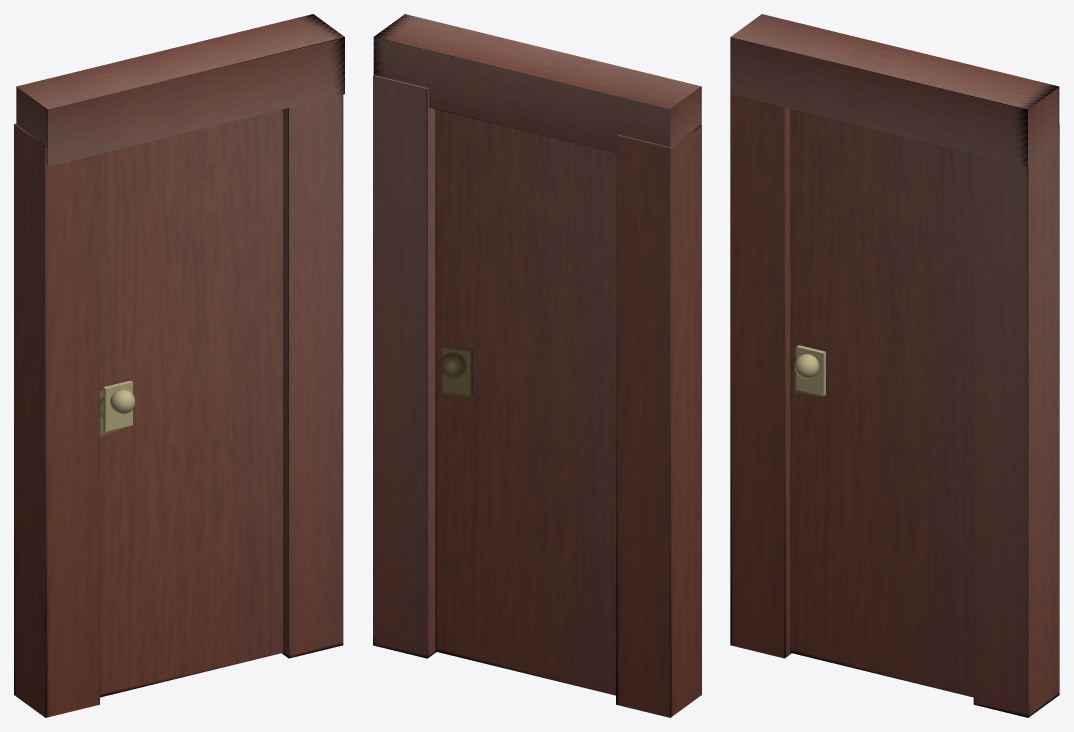
The model's file is door.glb.
The picture shows the model from 3 angles, left to right: view 1: azimuth 30°, elevation 25°; view 2: azimuth 150°, elevation 25°; view 3: azimuth 330°, elevation 25°; orthographic projection.
Visible parts, largest first — view 1: porta, Cubo, Cubo_1, Cubo_2, maniglia2; view 2: porta, Cubo, Cubo_1, Cubo_2; view 3: porta, Cubo_1, Cubo, Cubo_2, maniglia2.
Boxes of the visible parts, x1=… form: porta: x1=100, y1=109, x2=282, y2=697; Cubo: x1=14, y1=123, x2=99, y2=717; Cubo_1: x1=282, y1=94, x2=343, y2=658; Cubo_2: x1=16, y1=14, x2=344, y2=166; maniglia2: x1=103, y1=380, x2=132, y2=431; porta: x1=435, y1=109, x2=615, y2=695; Cubo: x1=616, y1=125, x2=701, y2=717; Cubo_1: x1=373, y1=75, x2=436, y2=658; Cubo_2: x1=373, y1=14, x2=701, y2=152; porta: x1=790, y1=109, x2=973, y2=697; Cubo_1: x1=973, y1=124, x2=1059, y2=717; Cubo: x1=730, y1=94, x2=791, y2=658; Cubo_2: x1=730, y1=14, x2=1059, y2=166; maniglia2: x1=796, y1=345, x2=825, y2=396.
Size of the model in its own units: 1.09 by 2.13 by 0.242.
Materials: 2 (1 with a texture image).
